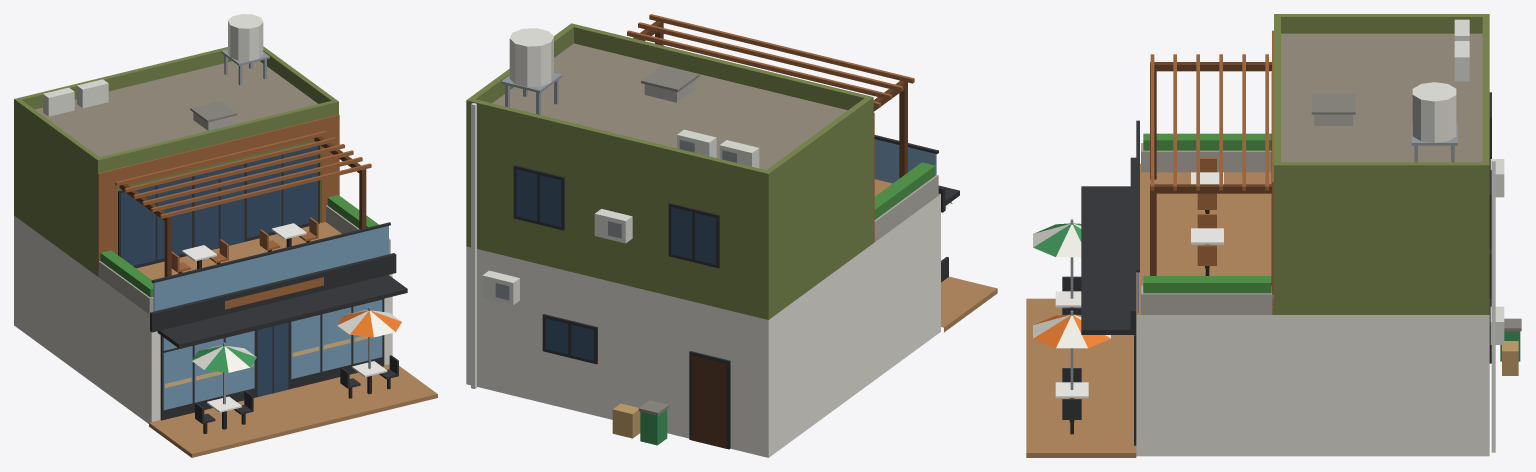
The model's file is toko_06.glb.
The picture shows the model from 3 angles, left to right: view 1: azimuth 30°, elevation 25°; view 2: azimuth 150°, elevation 25°; view 3: azimuth 270°, elevation 25°; orthographic projection. The views are drawn at different scales.
Visible parts, largest first — view 1: toko_06; view 2: toko_06; view 3: toko_06.
Part boxes in pixels (left/top/right/bottom): toko_06: left=14, top=14, right=437, bottom=457; toko_06: left=466, top=14, right=997, bottom=457; toko_06: left=1026, top=14, right=1521, bottom=457.
Bounding box in the file's own units: 7.96 × 8.3 × 10.8.
